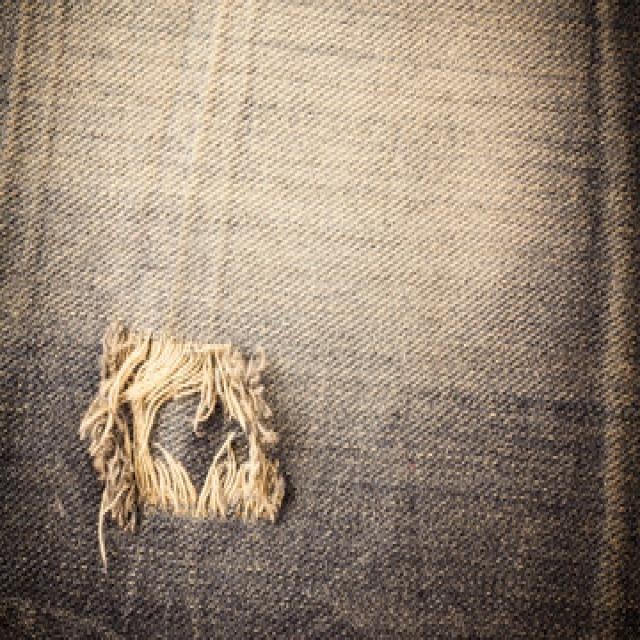Hole: (79, 325, 285, 562)
